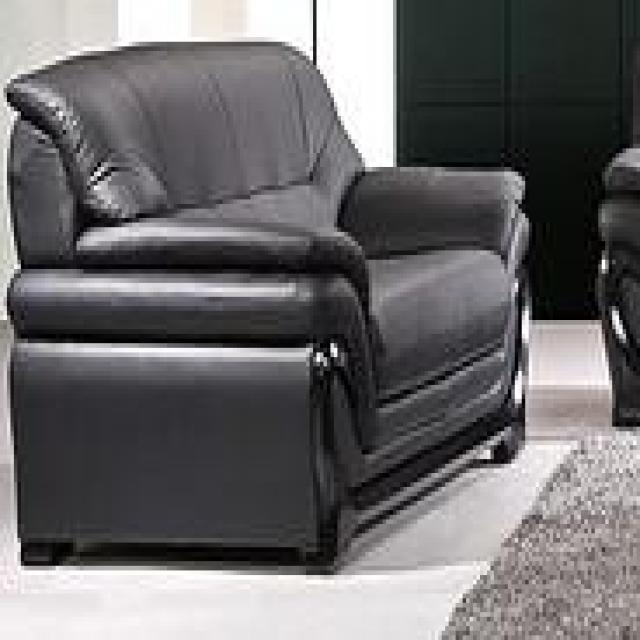sofa: (8, 41, 536, 572)
